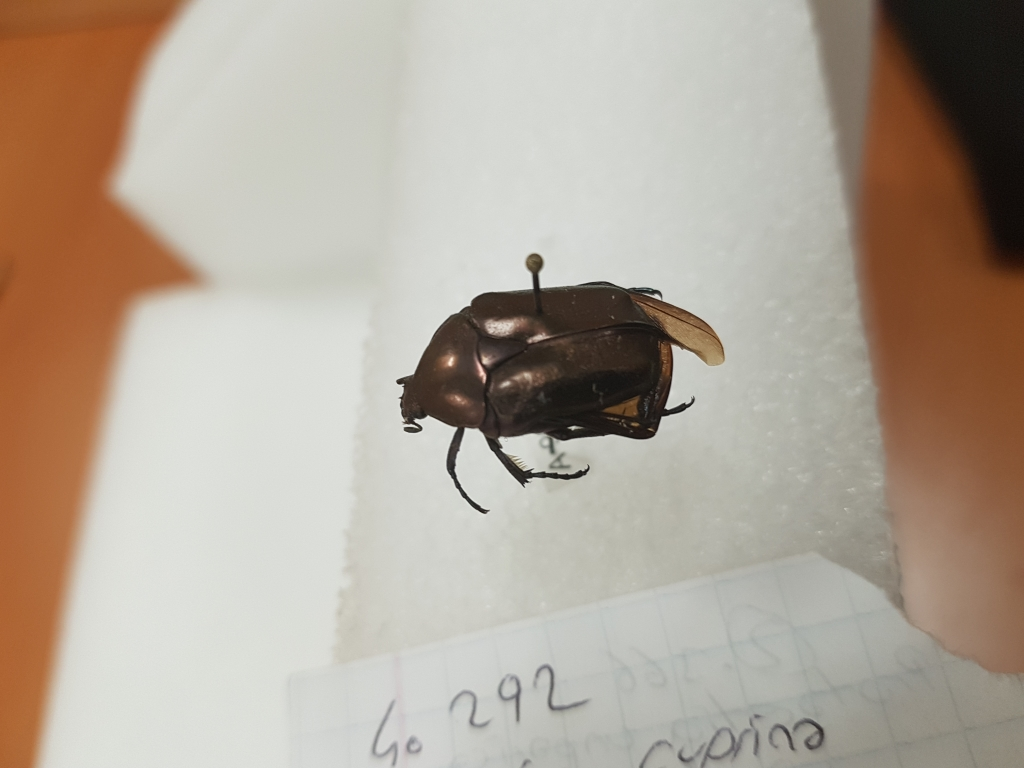Protaetia_cuprina_cuprina: (391, 268, 712, 515)
